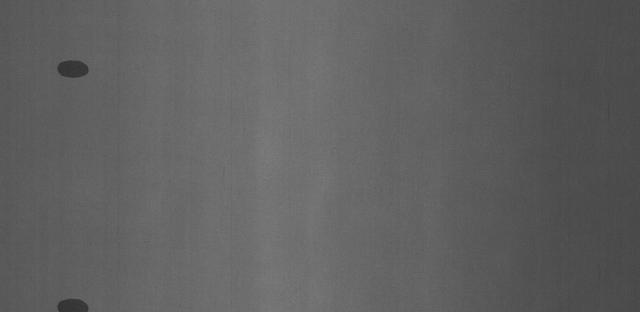oil_spot: (53, 56, 90, 83), (51, 293, 91, 312)
